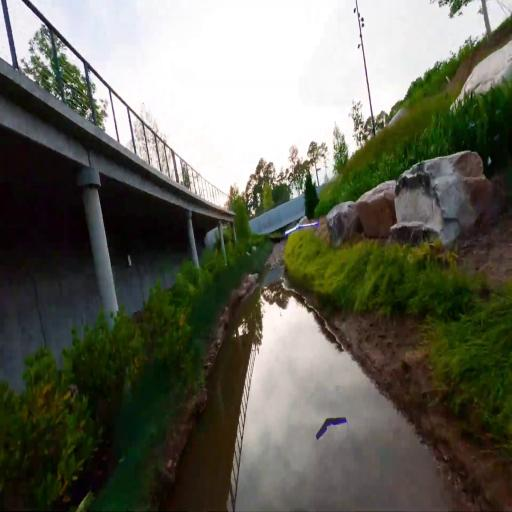uav: (281, 214, 320, 242)
